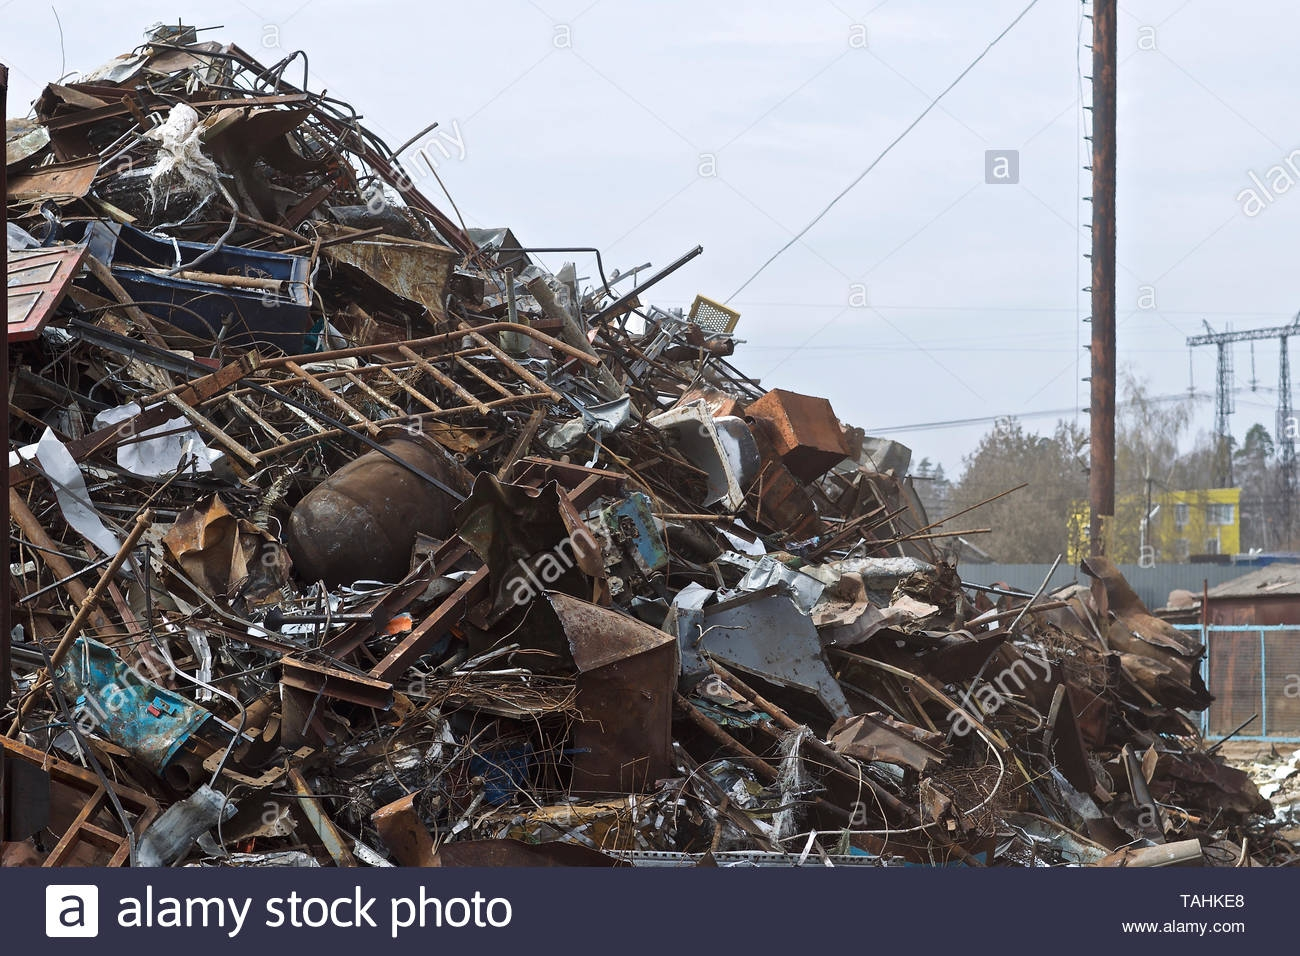metal: (158, 292, 623, 496), (275, 399, 537, 627), (472, 565, 697, 828), (665, 562, 877, 752), (650, 394, 781, 526), (153, 485, 277, 619), (730, 379, 867, 494), (808, 695, 957, 785), (261, 637, 410, 724), (28, 72, 165, 166), (1, 225, 91, 360), (356, 780, 449, 868)
plastic: (25, 418, 136, 575), (101, 398, 235, 488), (134, 95, 228, 209)
